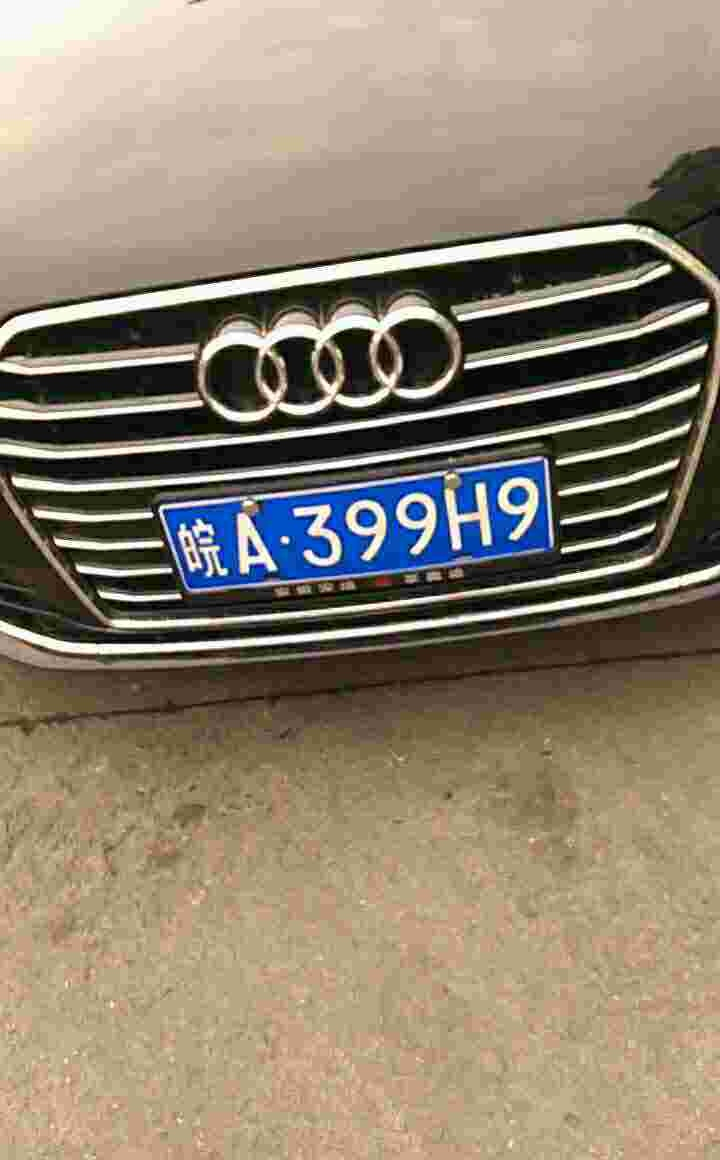license_plate: (158, 461, 560, 600)
